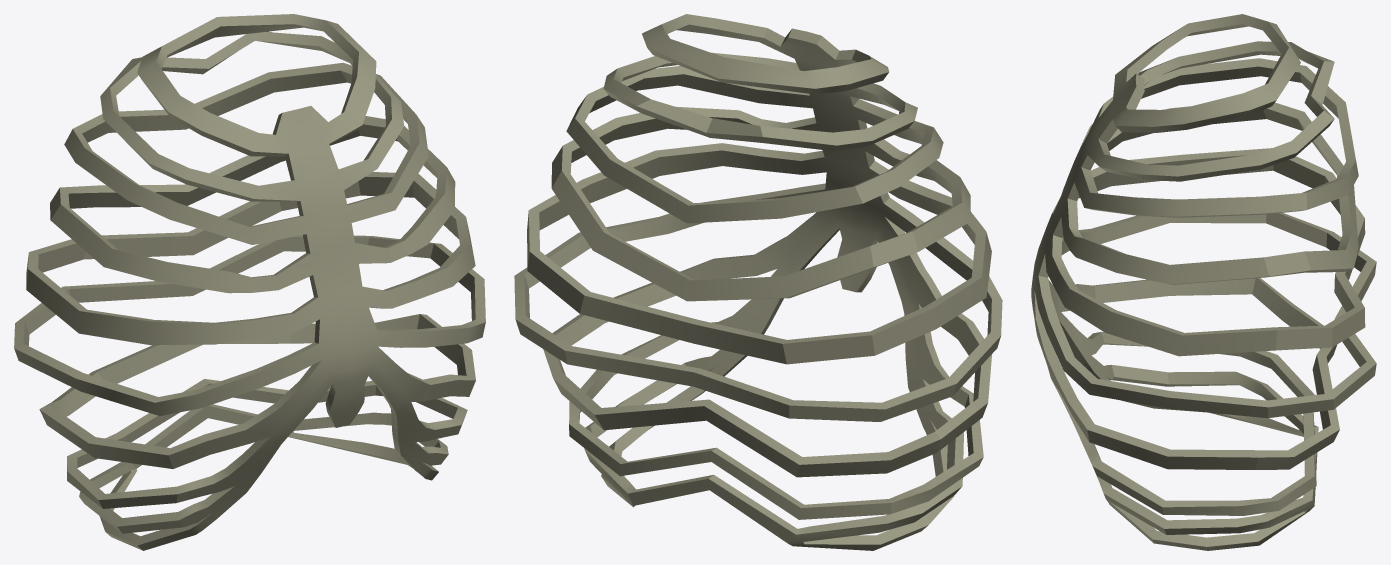
File: Ribcage.glb
The picture shows the model from 3 angles, left to right: view 1: azimuth 30°, elevation 25°; view 2: azimuth 150°, elevation 25°; view 3: azimuth 270°, elevation 25°; orthographic projection. The views are drawn at different scales.
Parts seen in each view (by area): view 1: Rib Cage; view 2: Rib Cage; view 3: Rib Cage.
Part boxes in pixels (bbox=[...]): Rib Cage: bbox=[14, 14, 485, 550]; Rib Cage: bbox=[514, 14, 1002, 550]; Rib Cage: bbox=[1031, 14, 1376, 550].
Size of the model in its own units: 7.33 by 7.49 by 5.36.
